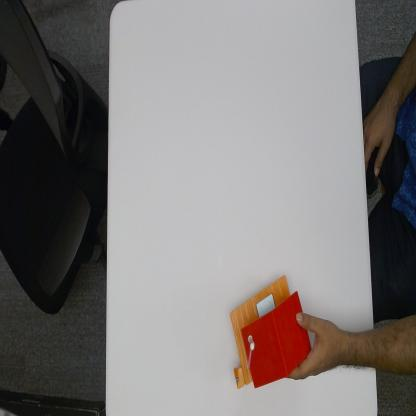Arm: (344, 328, 374, 369)
Hand: (293, 310, 343, 380)
House: (228, 280, 309, 390)
